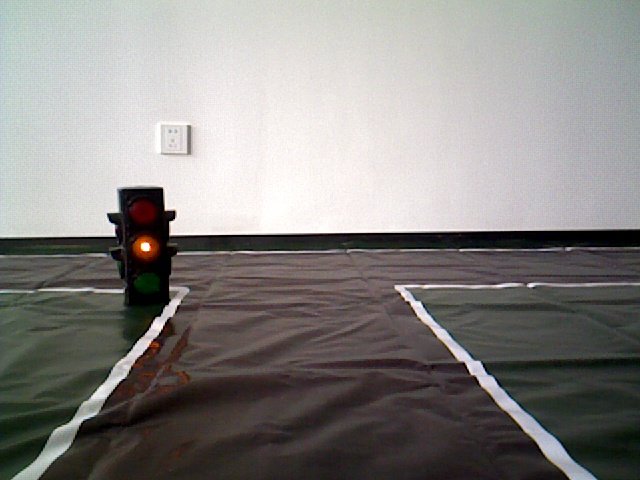yellow: (111, 189, 178, 299)
